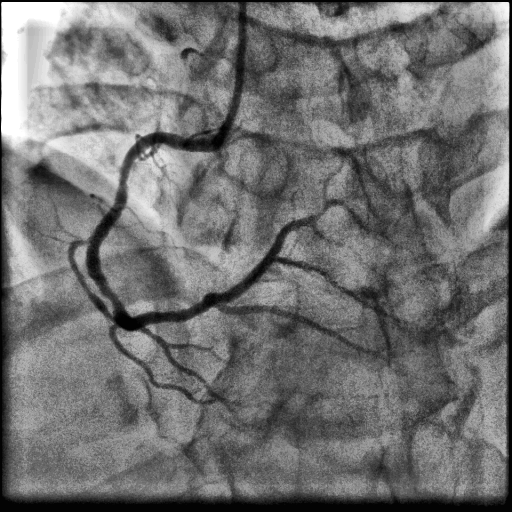pborca: (218, 199, 412, 303)
pda: (212, 303, 388, 359)
rca: (86, 132, 220, 331)
